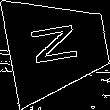N_E: (28, 23, 87, 71)
